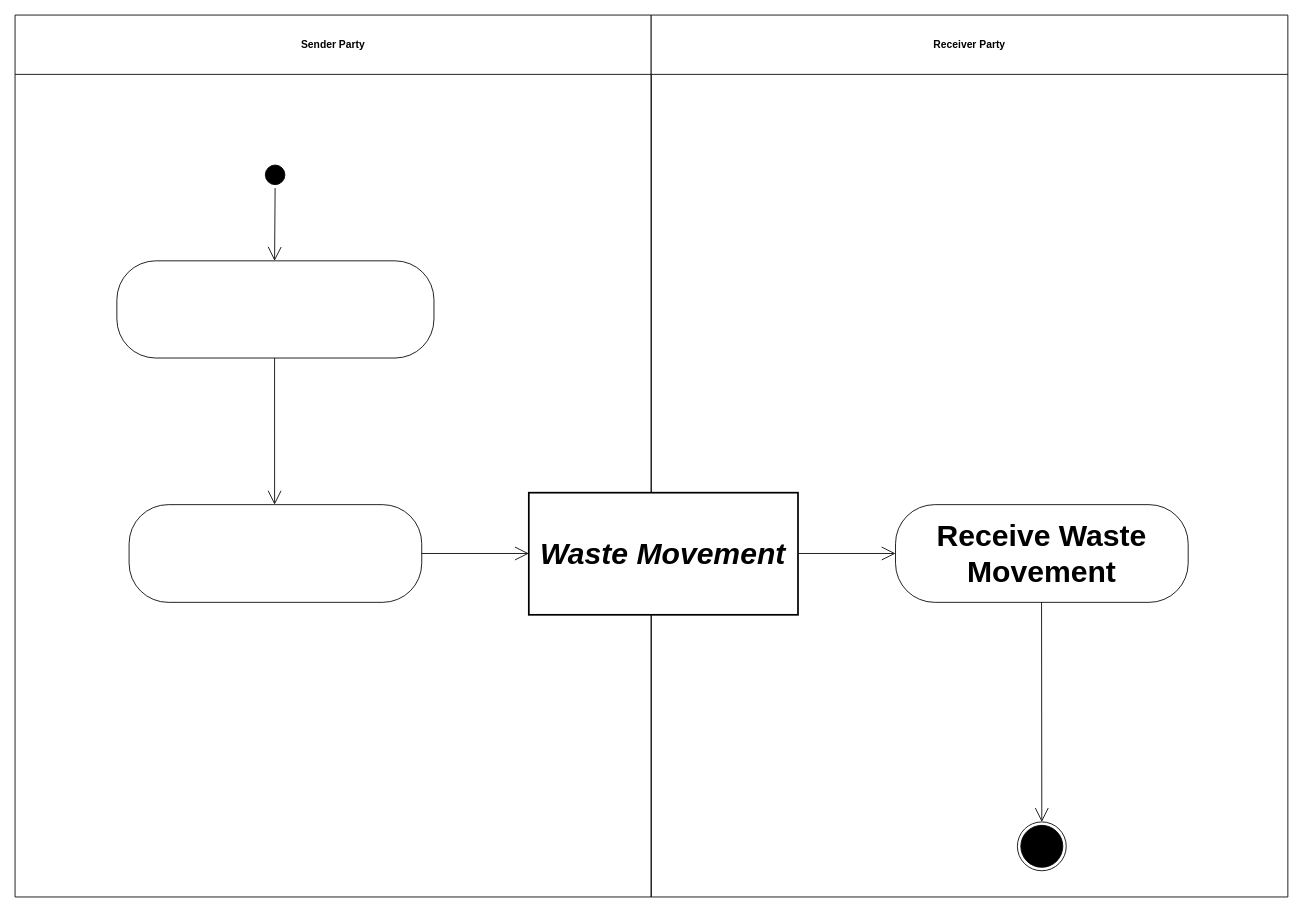
Some shapes in this 1303 by 912 pixel diagram are drawn without their labels. The shapes that lost their labels are listed below. From the top down, each one's centre as x and y in pixels, then its label:
At pixel 275 309: "Prepare partial waste movement".
At pixel 275 553: "Issue Waste Movement".
